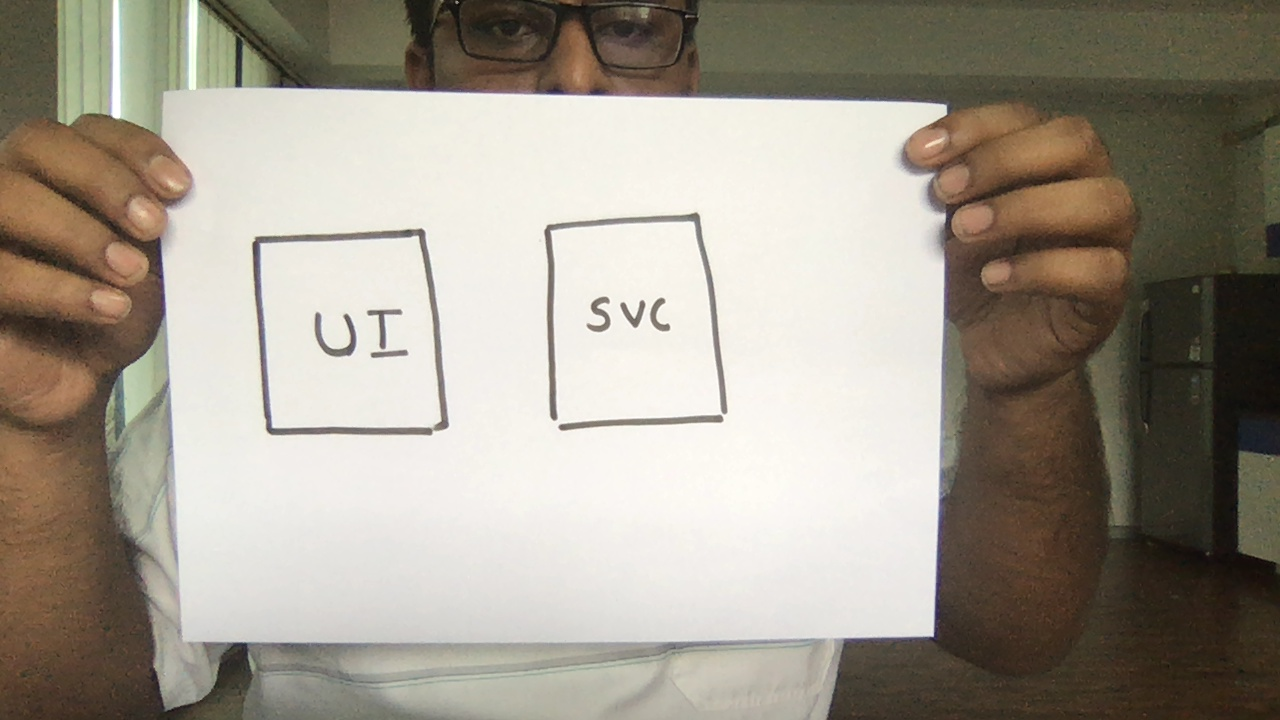ec2: (538, 211, 735, 433)
ui: (248, 224, 454, 443)
